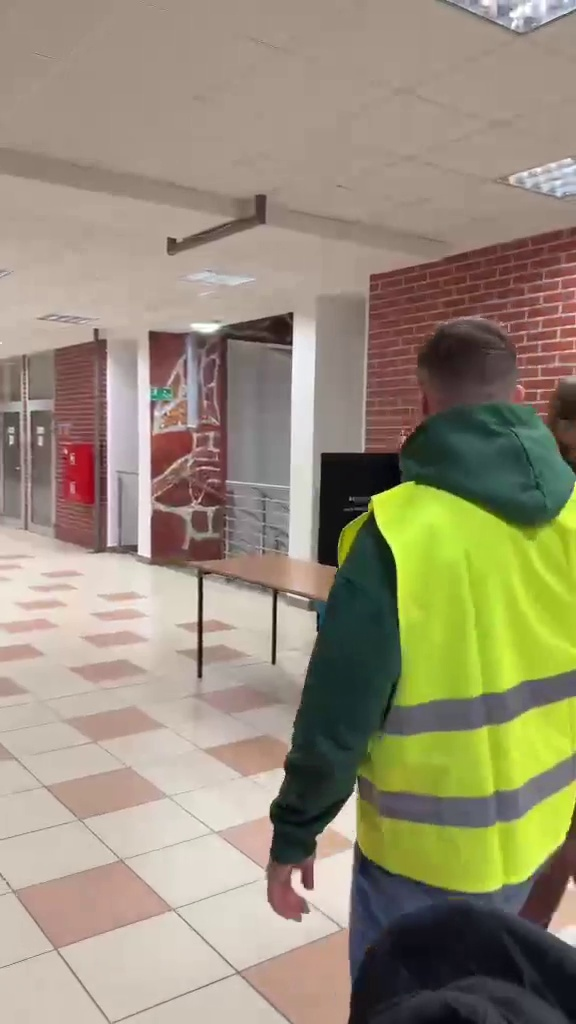vest: (275, 295, 576, 949)
